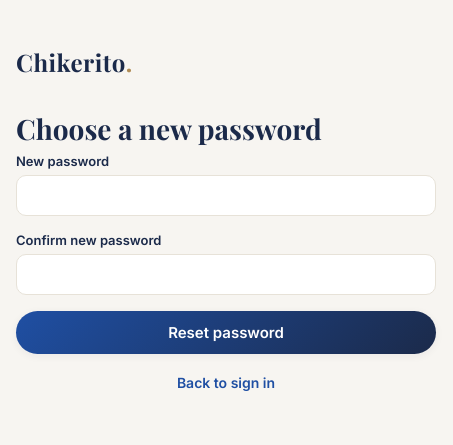
ResetPassword › shows a clear message and a way back for an expired/invalid token
Type "newpassword1" into the 1st password field.
click(226, 195); type("newpassword1")  # box x1=16 y1=174 x2=436 y2=216
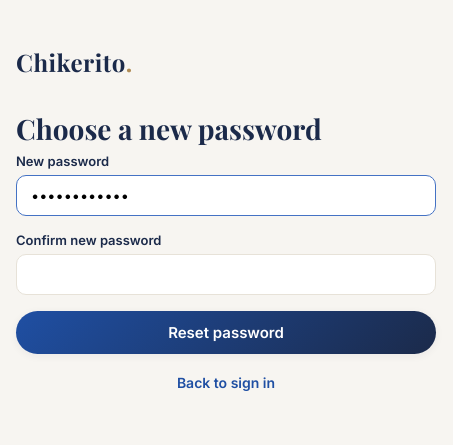
Type "newpassword1" into the password field below "Confirm new password".
click(226, 274); type("newpassword1")  # box x1=16 y1=254 x2=436 y2=294
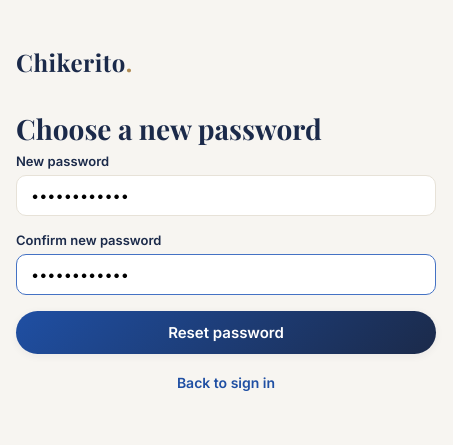
Click the button "Reset password".
click(226, 332)  # box x1=16 y1=310 x2=436 y2=354
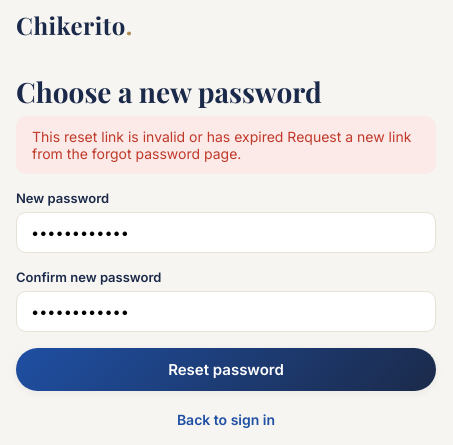
Now the text "invalid or has expired" is shown, box x1=32 y1=128 x2=283 y2=144
Now the link "forgot password" is shown, box x1=92 y1=144 x2=200 y2=162
